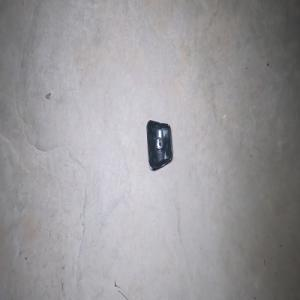LuggagePart: (146, 119, 172, 171)
